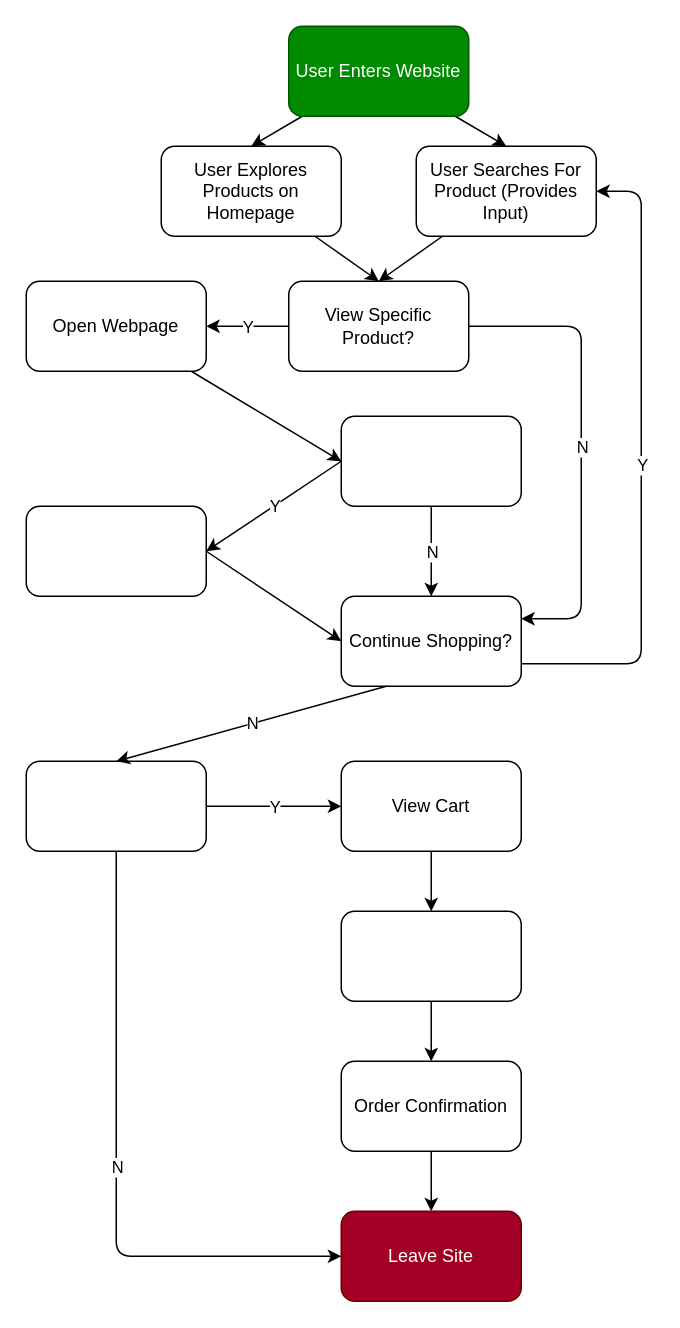
This 680x1328 diagram has some shape labels left out. The centre of each missing label's shape, as x and y in pixels:
"Add to Cart?" belongs at (x=430, y=460).
"Cart Confirmation" belongs at (x=115, y=550).
"Checkout?" belongs at (x=115, y=805).
"View Payment" belongs at (x=430, y=955).
